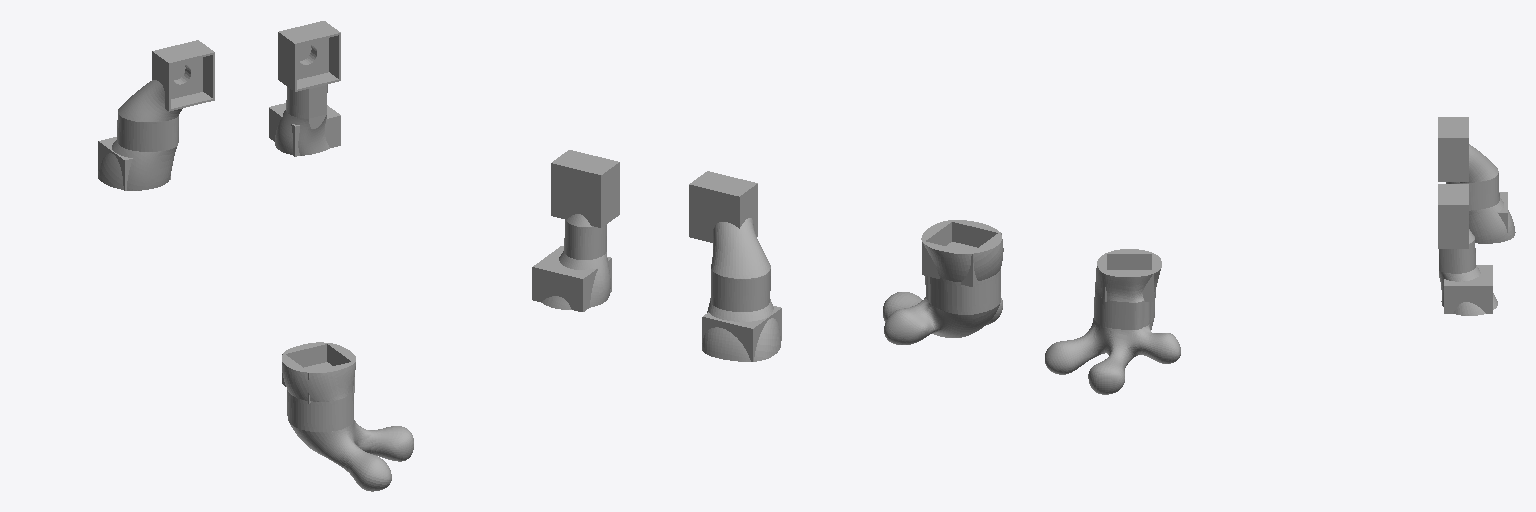
The robot description file, URDF, robot "FrogBot1_top-FrogBot1-y-6_bottom-FrogBot1-y-6":
<?xml version="1.0" ?>
<robot name="FrogBot1_top-FrogBot1-y-6_bottom-FrogBot1-y-6">

<material name="pla_5_percent_infill">
  <color rgba="0.700 0.700 0.700 1.000"/>
</material>

<link name="base_link">
  <inertial>
    <origin xyz="0 0 0" rpy="0 0 0"/>
    <mass value="1.4103143072721238"/>
    <inertia ixx="0.004671865419262023" iyy="0.01102984328633242" izz="0.011972094032648898" ixy="0.00015185420958179873" iyz="8.583160306759328e-05" ixz="-0.0012132770853355082"/>
  </inertial>
  <visual>
    <origin xyz="0 0 0" rpy="0 0 0"/>
    <geometry>
      <mesh filename="simple_meshes/base_link.stl" scale="0.001 0.001 0.001"/>
    </geometry>
    <material name="pla_5_percent_infill"/>
  </visual>
  <collision>
    <origin xyz="0 0 0" rpy="0 0 0"/>
    <geometry>
      <mesh filename="simple_meshes/base_link.stl" scale="0.001 0.001 0.001"/>
    </geometry>
  </collision>
</link>

<link name="body_1_0_1">
  <inertial>
    <origin xyz="-0.045735 -0.109621 -0.00462" rpy="0 0 0"/>
    <mass value="0.042742572720428126"/>
    <inertia ixx="4.8710943974901704e-05" iyy="5.044943592992317e-05" izz="1.5113327222513167e-05" ixy="-4.565019534397206e-07" iyz="3.393130632926215e-06" ixz="6.908643124618741e-07"/>
  </inertial>
  <visual>
    <origin xyz="-0.045735 -0.109621 -0.00462" rpy="0 0 0"/>
    <geometry>
      <mesh filename="simple_meshes/body_1_0_1.stl" scale="0.001 0.001 0.001"/>
    </geometry>
    <material name="pla_5_percent_infill"/>
  </visual>
  <collision>
    <origin xyz="-0.045735 -0.109621 -0.00462" rpy="0 0 0"/>
    <geometry>
      <mesh filename="simple_meshes/body_1_0_1.stl" scale="0.001 0.001 0.001"/>
    </geometry>
  </collision>
</link>

<link name="body_1_1_1">
  <inertial>
    <origin xyz="0.086489 -0.109621 -0.018802" rpy="0 0 0"/>
    <mass value="0.07791456159574267"/>
    <inertia ixx="9.462274355153972e-05" iyy="0.0001024098774370433" izz="4.409219128689943e-05" ixy="6.168907758929412e-06" iyz="1.469876848607843e-05" ixz="-2.2209793211704033e-05"/>
  </inertial>
  <visual>
    <origin xyz="0.086489 -0.109621 -0.018802" rpy="0 0 0"/>
    <geometry>
      <mesh filename="simple_meshes/body_1_1_1.stl" scale="0.001 0.001 0.001"/>
    </geometry>
    <material name="pla_5_percent_infill"/>
  </visual>
  <collision>
    <origin xyz="0.086489 -0.109621 -0.018802" rpy="0 0 0"/>
    <geometry>
      <mesh filename="simple_meshes/body_1_1_1.stl" scale="0.001 0.001 0.001"/>
    </geometry>
  </collision>
</link>

<link name="body_1_2_1">
  <inertial>
    <origin xyz="-0.040267 0.109621 -0.027764" rpy="0 0 0"/>
    <mass value="0.054416717684884486"/>
    <inertia ixx="9.263977416357509e-05" iyy="9.103442231563606e-05" izz="2.3599958893622507e-05" ixy="6.474362329348619e-07" iyz="-1.5155757341951589e-05" ixz="-1.843640372962491e-07"/>
  </inertial>
  <visual>
    <origin xyz="-0.040267 0.109621 -0.027764" rpy="0 0 0"/>
    <geometry>
      <mesh filename="simple_meshes/body_1_2_1.stl" scale="0.001 0.001 0.001"/>
    </geometry>
    <material name="pla_5_percent_infill"/>
  </visual>
  <collision>
    <origin xyz="-0.040267 0.109621 -0.027764" rpy="0 0 0"/>
    <geometry>
      <mesh filename="simple_meshes/body_1_2_1.stl" scale="0.001 0.001 0.001"/>
    </geometry>
  </collision>
</link>

<link name="body_1_3_1">
  <inertial>
    <origin xyz="0.090407 0.109621 -0.022193" rpy="0 0 0"/>
    <mass value="0.07768399971822645"/>
    <inertia ixx="0.0001030081594172701" iyy="0.00011277754791980707" izz="4.731999642966153e-05" ixy="-7.5628705072904034e-06" iyz="-1.8093607544711972e-05" ixz="-2.6787832639643986e-05"/>
  </inertial>
  <visual>
    <origin xyz="0.090407 0.109621 -0.022193" rpy="0 0 0"/>
    <geometry>
      <mesh filename="simple_meshes/body_1_3_1.stl" scale="0.001 0.001 0.001"/>
    </geometry>
    <material name="pla_5_percent_infill"/>
  </visual>
  <collision>
    <origin xyz="0.090407 0.109621 -0.022193" rpy="0 0 0"/>
    <geometry>
      <mesh filename="simple_meshes/body_1_3_1.stl" scale="0.001 0.001 0.001"/>
    </geometry>
  </collision>
</link>

<link name="body_2_0_1">
  <inertial>
    <origin xyz="-0.049562 -0.159797 0.105064" rpy="0 0 0"/>
    <mass value="0.11010024254701548"/>
    <inertia ixx="0.00014064391021919448" iyy="0.00015250270257096462" izz="0.00013727541771518456" ixy="-4.715563001325435e-06" iyz="-1.5036170661016958e-06" ixz="3.380651013575563e-05"/>
  </inertial>
  <visual>
    <origin xyz="-0.049562 -0.159797 0.105064" rpy="0 0 0"/>
    <geometry>
      <mesh filename="simple_meshes/body_2_0_1.stl" scale="0.001 0.001 0.001"/>
    </geometry>
    <material name="pla_5_percent_infill"/>
  </visual>
  <collision>
    <origin xyz="-0.049562 -0.159797 0.105064" rpy="0 0 0"/>
    <geometry>
      <mesh filename="simple_meshes/body_2_0_1.stl" scale="0.001 0.001 0.001"/>
    </geometry>
  </collision>
</link>

<link name="body_2_1_1">
  <inertial>
    <origin xyz="0.121182 -0.173952 0.105064" rpy="0 0 0"/>
    <mass value="0.12022395425541525"/>
    <inertia ixx="0.00014952592563838643" iyy="0.00016059723300055739" izz="0.00014891029064668156" ixy="1.289431637917053e-07" iyz="1.9849039915286956e-05" ixz="4.268614457408719e-05"/>
  </inertial>
  <visual>
    <origin xyz="0.121182 -0.173952 0.105064" rpy="0 0 0"/>
    <geometry>
      <mesh filename="simple_meshes/body_2_1_1.stl" scale="0.001 0.001 0.001"/>
    </geometry>
    <material name="pla_5_percent_infill"/>
  </visual>
  <collision>
    <origin xyz="0.121182 -0.173952 0.105064" rpy="0 0 0"/>
    <geometry>
      <mesh filename="simple_meshes/body_2_1_1.stl" scale="0.001 0.001 0.001"/>
    </geometry>
  </collision>
</link>

<link name="body_2_2_1">
  <inertial>
    <origin xyz="-0.04311 0.170506 0.105064" rpy="0 0 0"/>
    <mass value="0.11443521058306759"/>
    <inertia ixx="0.00015098591705875897" iyy="0.00014414775323390566" izz="0.0001415923545011969" ixy="1.207204939084397e-06" iyz="-8.086108890358566e-06" ixz="2.4437110452910906e-05"/>
  </inertial>
  <visual>
    <origin xyz="-0.04311 0.170506 0.105064" rpy="0 0 0"/>
    <geometry>
      <mesh filename="simple_meshes/body_2_2_1.stl" scale="0.001 0.001 0.001"/>
    </geometry>
    <material name="pla_5_percent_infill"/>
  </visual>
  <collision>
    <origin xyz="-0.04311 0.170506 0.105064" rpy="0 0 0"/>
    <geometry>
      <mesh filename="simple_meshes/body_2_2_1.stl" scale="0.001 0.001 0.001"/>
    </geometry>
  </collision>
</link>

<link name="body_2_3_1">
  <inertial>
    <origin xyz="0.129712 0.175384 0.105064" rpy="0 0 0"/>
    <mass value="0.1167874152074106"/>
    <inertia ixx="0.0001576077723947078" iyy="0.00015450436359291247" izz="0.00013660338909442932" ixy="6.289753455720592e-06" iyz="-2.5856747654466432e-05" ixz="4.078949079696324e-05"/>
  </inertial>
  <visual>
    <origin xyz="0.129712 0.175384 0.105064" rpy="0 0 0"/>
    <geometry>
      <mesh filename="simple_meshes/body_2_3_1.stl" scale="0.001 0.001 0.001"/>
    </geometry>
    <material name="pla_5_percent_infill"/>
  </visual>
  <collision>
    <origin xyz="0.129712 0.175384 0.105064" rpy="0 0 0"/>
    <geometry>
      <mesh filename="simple_meshes/body_2_3_1.stl" scale="0.001 0.001 0.001"/>
    </geometry>
  </collision>
</link>

<joint name="joint_1_0" type="revolute">
  <origin xyz="0.045735 0.109621 0.00462" rpy="0 0 0"/>
  <parent link="base_link"/>
  <child link="body_1_0_1"/>
  <axis xyz="0.0 0.0 -1.0"/>
  <limit upper="1.2" lower="-1.2" effort="3.8" velocity="5.4"/>
</joint>
<transmission name="joint_1_0_tran">
  <type>transmission_interface/SimpleTransmission</type>
  <joint name="joint_1_0">
    <hardwareInterface>PositionJointInterface</hardwareInterface>
  </joint>
  <actuator name="joint_1_0_actr">
    <hardwareInterface>PositionJointInterface</hardwareInterface>
    <mechanicalReduction>1</mechanicalReduction>
  </actuator>
</transmission>

<joint name="joint_1_1" type="revolute">
  <origin xyz="-0.086489 0.109621 0.018802" rpy="0 0 0"/>
  <parent link="base_link"/>
  <child link="body_1_1_1"/>
  <axis xyz="0.0 0.0 -1.0"/>
  <limit upper="1.2" lower="-1.2" effort="3.8" velocity="5.4"/>
</joint>
<transmission name="joint_1_1_tran">
  <type>transmission_interface/SimpleTransmission</type>
  <joint name="joint_1_1">
    <hardwareInterface>PositionJointInterface</hardwareInterface>
  </joint>
  <actuator name="joint_1_1_actr">
    <hardwareInterface>PositionJointInterface</hardwareInterface>
    <mechanicalReduction>1</mechanicalReduction>
  </actuator>
</transmission>

<joint name="joint_1_2" type="revolute">
  <origin xyz="0.040267 -0.109621 0.027764" rpy="0 0 0"/>
  <parent link="base_link"/>
  <child link="body_1_2_1"/>
  <axis xyz="0.0 0.0 -1.0"/>
  <limit upper="1.2" lower="-1.2" effort="3.8" velocity="5.4"/>
</joint>
<transmission name="joint_1_2_tran">
  <type>transmission_interface/SimpleTransmission</type>
  <joint name="joint_1_2">
    <hardwareInterface>PositionJointInterface</hardwareInterface>
  </joint>
  <actuator name="joint_1_2_actr">
    <hardwareInterface>PositionJointInterface</hardwareInterface>
    <mechanicalReduction>1</mechanicalReduction>
  </actuator>
</transmission>

<joint name="joint_1_3" type="revolute">
  <origin xyz="-0.090407 -0.109621 0.022193" rpy="0 0 0"/>
  <parent link="base_link"/>
  <child link="body_1_3_1"/>
  <axis xyz="0.0 0.0 -1.0"/>
  <limit upper="1.2" lower="-1.2" effort="3.8" velocity="5.4"/>
</joint>
<transmission name="joint_1_3_tran">
  <type>transmission_interface/SimpleTransmission</type>
  <joint name="joint_1_3">
    <hardwareInterface>PositionJointInterface</hardwareInterface>
  </joint>
  <actuator name="joint_1_3_actr">
    <hardwareInterface>PositionJointInterface</hardwareInterface>
    <mechanicalReduction>1</mechanicalReduction>
  </actuator>
</transmission>

<joint name="joint_2_0" type="revolute">
  <origin xyz="0.003827 0.050176 -0.109684" rpy="0 0 0"/>
  <parent link="body_1_0_1"/>
  <child link="body_2_0_1"/>
  <axis xyz="0.0 1.0 0.0"/>
  <limit upper="1.2" lower="-1.2" effort="3.8" velocity="5.4"/>
</joint>
<transmission name="joint_2_0_tran">
  <type>transmission_interface/SimpleTransmission</type>
  <joint name="joint_2_0">
    <hardwareInterface>PositionJointInterface</hardwareInterface>
  </joint>
  <actuator name="joint_2_0_actr">
    <hardwareInterface>PositionJointInterface</hardwareInterface>
    <mechanicalReduction>1</mechanicalReduction>
  </actuator>
</transmission>

<joint name="joint_2_1" type="revolute">
  <origin xyz="-0.034693 0.064331 -0.123866" rpy="0 0 0"/>
  <parent link="body_1_1_1"/>
  <child link="body_2_1_1"/>
  <axis xyz="0.0 1.0 0.0"/>
  <limit upper="1.2" lower="-1.2" effort="3.8" velocity="5.4"/>
</joint>
<transmission name="joint_2_1_tran">
  <type>transmission_interface/SimpleTransmission</type>
  <joint name="joint_2_1">
    <hardwareInterface>PositionJointInterface</hardwareInterface>
  </joint>
  <actuator name="joint_2_1_actr">
    <hardwareInterface>PositionJointInterface</hardwareInterface>
    <mechanicalReduction>1</mechanicalReduction>
  </actuator>
</transmission>

<joint name="joint_2_2" type="revolute">
  <origin xyz="0.002843 -0.060885 -0.132828" rpy="0 0 0"/>
  <parent link="body_1_2_1"/>
  <child link="body_2_2_1"/>
  <axis xyz="0.0 1.0 0.0"/>
  <limit upper="1.2" lower="-1.2" effort="3.8" velocity="5.4"/>
</joint>
<transmission name="joint_2_2_tran">
  <type>transmission_interface/SimpleTransmission</type>
  <joint name="joint_2_2">
    <hardwareInterface>PositionJointInterface</hardwareInterface>
  </joint>
  <actuator name="joint_2_2_actr">
    <hardwareInterface>PositionJointInterface</hardwareInterface>
    <mechanicalReduction>1</mechanicalReduction>
  </actuator>
</transmission>

<joint name="joint_2_3" type="revolute">
  <origin xyz="-0.039305 -0.065763 -0.127257" rpy="0 0 0"/>
  <parent link="body_1_3_1"/>
  <child link="body_2_3_1"/>
  <axis xyz="0.0 1.0 0.0"/>
  <limit upper="1.2" lower="-1.2" effort="3.8" velocity="5.4"/>
</joint>
<transmission name="joint_2_3_tran">
  <type>transmission_interface/SimpleTransmission</type>
  <joint name="joint_2_3">
    <hardwareInterface>PositionJointInterface</hardwareInterface>
  </joint>
  <actuator name="joint_2_3_actr">
    <hardwareInterface>PositionJointInterface</hardwareInterface>
    <mechanicalReduction>1</mechanicalReduction>
  </actuator>
</transmission>

</robot>

--- Render facts (derived) ---
The picture shows the robot from 3 angles, left to right: view 1: azimuth 30°, elevation 25°; view 2: azimuth 150°, elevation 25°; view 3: azimuth 270°, elevation 25°; orthographic projection.
Robot: FrogBot1_top-FrogBot1-y-6_bottom-FrogBot1-y-6 — 9 links, 8 joints (8 revolute); root link base_link; default pose: all joints at 0.
Links seen in each view (by area): view 1: body_2_3_1, body_1_1_1, body_1_0_1; view 2: body_1_1_1, body_2_3_1, body_1_0_1; view 3: body_2_3_1, body_1_0_1, body_1_1_1.
Link boxes in pixels (x1,y1,x2,y2): body_2_3_1: (282,342,413,491); body_1_1_1: (98,40,214,190); body_1_0_1: (269,21,340,156); body_1_1_1: (689,171,781,361); body_2_3_1: (883,220,1003,344); body_1_0_1: (532,150,619,311); body_2_3_1: (1045,249,1180,394); body_1_0_1: (1438,184,1497,315); body_1_1_1: (1438,117,1515,243).
Bounding box of the posed robot: 0.2433 × 0.4652 × 0.2783 m (x, y, z).
Meshes: 9 distinct files referenced, 3 mesh visuals loaded (3 binary STL); not drawn: 6 (reference not matched to a file when rendering).